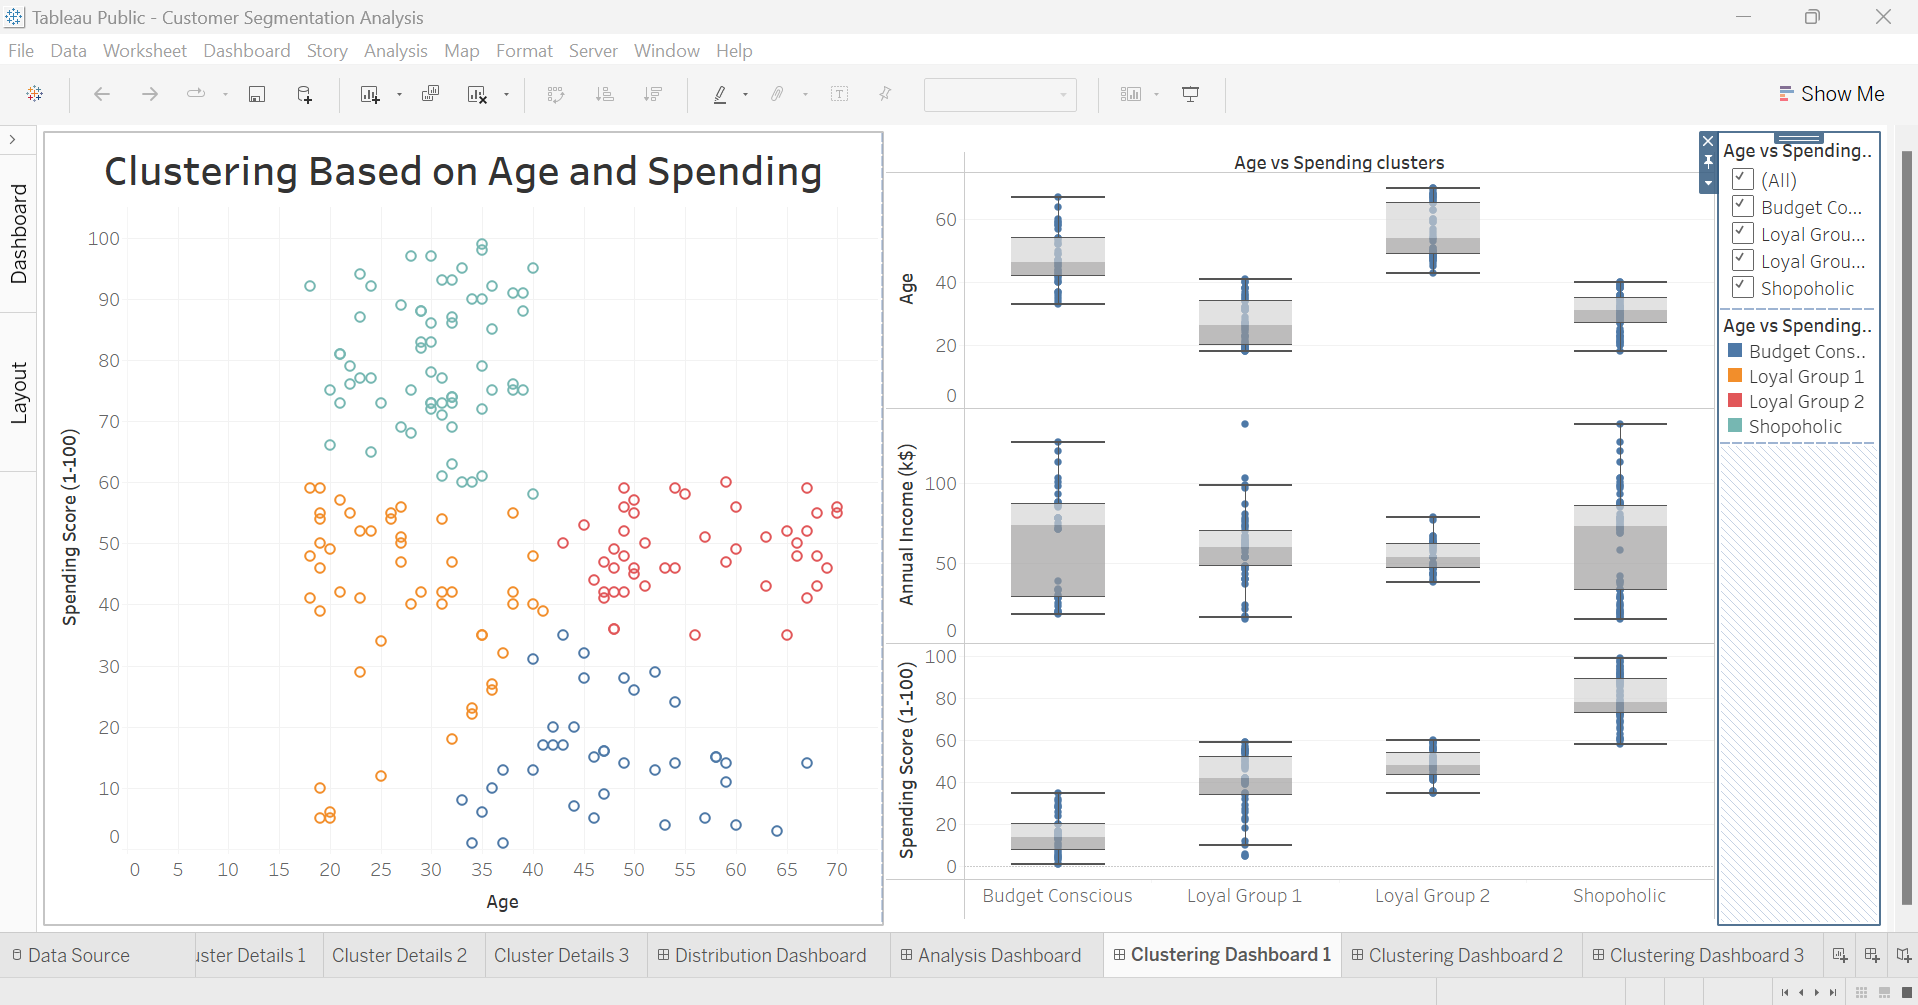

The dashboard page shown, as its layout file describes it:
{"tool":"tableau","page":{"name":"Clustering Dashboard 1","canvas":[1000,1000],"units":"permille","ordinal":1},"visuals":[{"type":"worksheet","title":"Analysis 1","mark":"Automatic","rows":["Spending Score (1-100)"],"cols":["Age"],"box":[4.3,9.9,452.4,980.2]},{"type":"worksheet","title":"Cluster Details 1","mark":"Circle","rows":["Age","Annual Income (k$)","Spending Score (1-100)"],"box":[456.7,9.9,452.4,980.2]},{"type":"filter","title":"Analysis 1","param":"[federated.03849fk1oqn5g5192y5811f0itua].[Age & Spending Score (1-100) (clusters","box":[909.2,9.9,86.5,216.8]},{"type":"legend","title":"Analysis 1","param":"[federated.03849fk1oqn5g5192y5811f0itua].[Age & Spending Score (1-100) (clusters","box":[909.2,226.8,86.5,166]}]}

Visuals, with their boxes on the dashboard's canvas, which has no fixed pixel size, in thousandths of its width and height (x1, y1, x2, y2). These are canvas units, not pixel positions in the 1918x1005 screenshot, which may show the page scaled, cropped or inside an application window:
"Analysis 1" worksheet: box=[4, 10, 457, 990]
"Cluster Details 1" worksheet (Circle marks): box=[457, 10, 909, 990]
"Analysis 1" filter: box=[909, 10, 996, 227]
"Analysis 1" legend: box=[909, 227, 996, 393]
